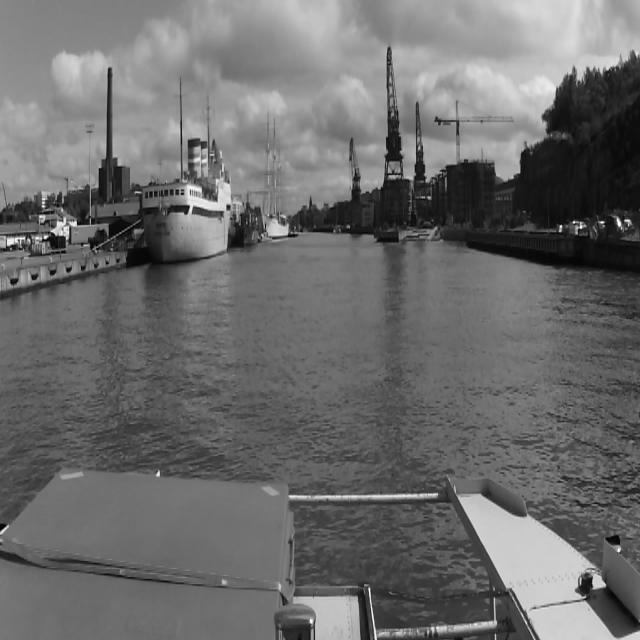ship: (140, 139, 232, 261), (247, 113, 295, 243), (238, 210, 258, 245), (228, 210, 238, 248), (333, 202, 342, 235), (258, 230, 272, 243)
